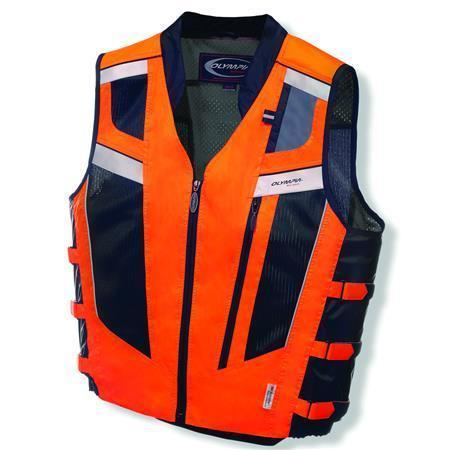vest: (71, 11, 386, 443)
